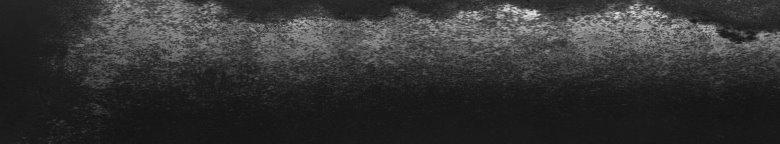kb: (272, 4, 776, 80)
